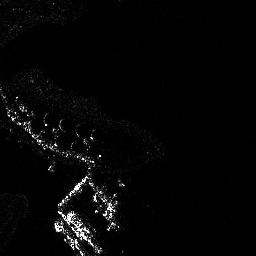ship: (54, 220, 84, 256), (65, 210, 98, 242)
